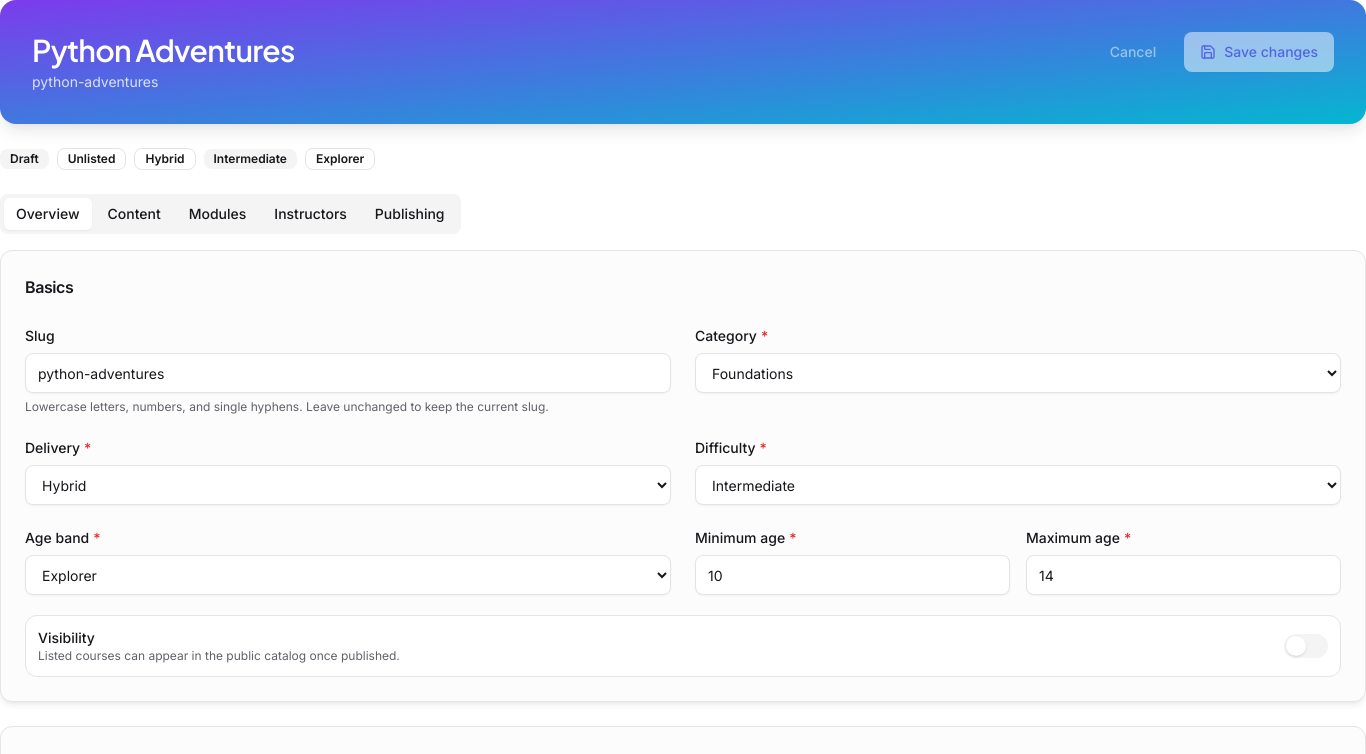
Test case: CourseEditor › enables Save after an edit and submits an update on save
Step 1. Replace the text in the field labelled "Slug" with "python-adventures-2" → (348, 373), box [25,353,671,393]
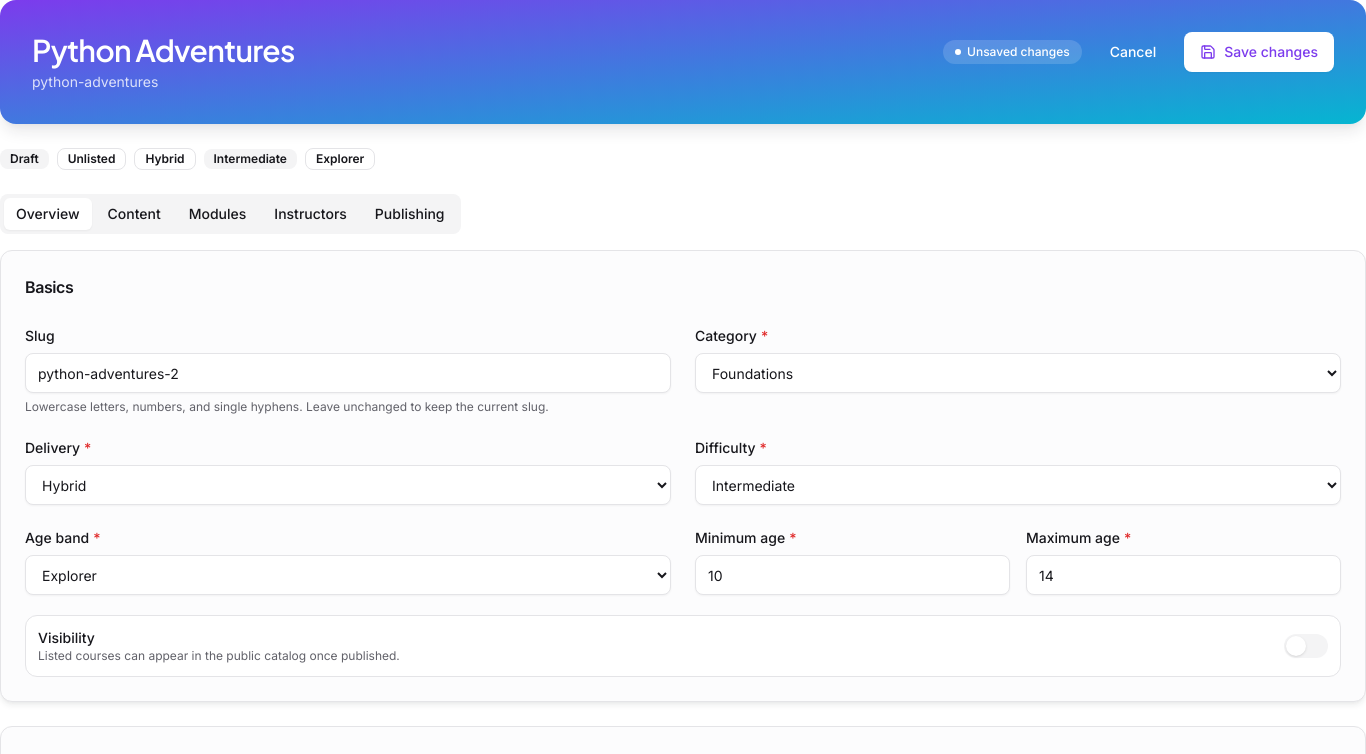
Check: the button "Save changes" is enabled
Step 2. Click the button "Save changes" → (1259, 52), box [1184,32,1334,72]
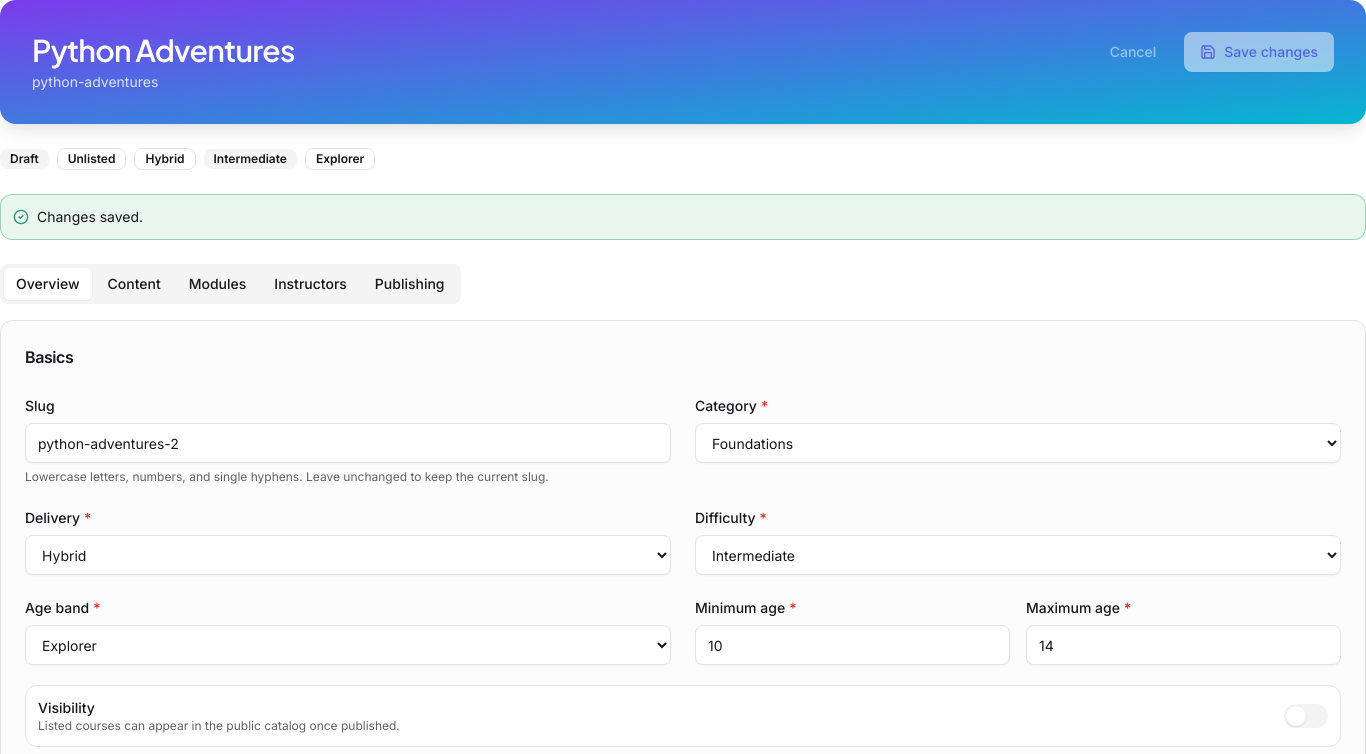
Check: the text "Changes saved." is shown, box [0,194,1365,240]
